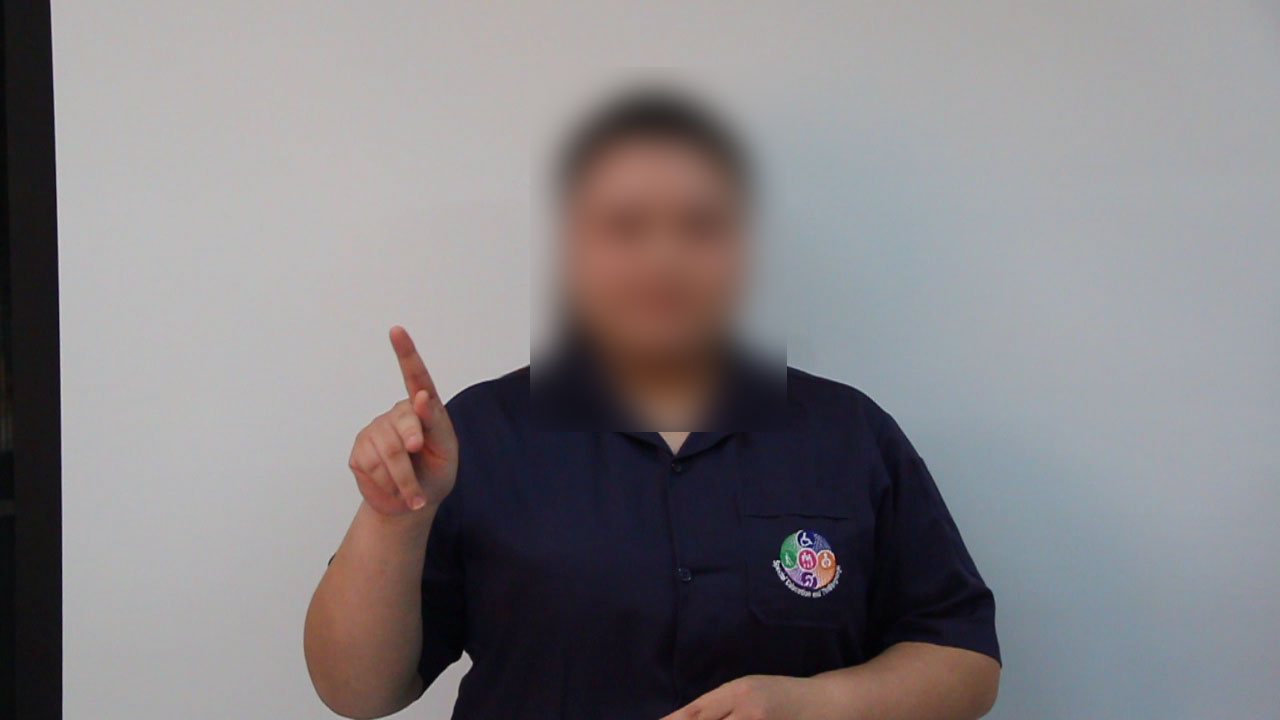ko: (322, 321, 494, 525)
